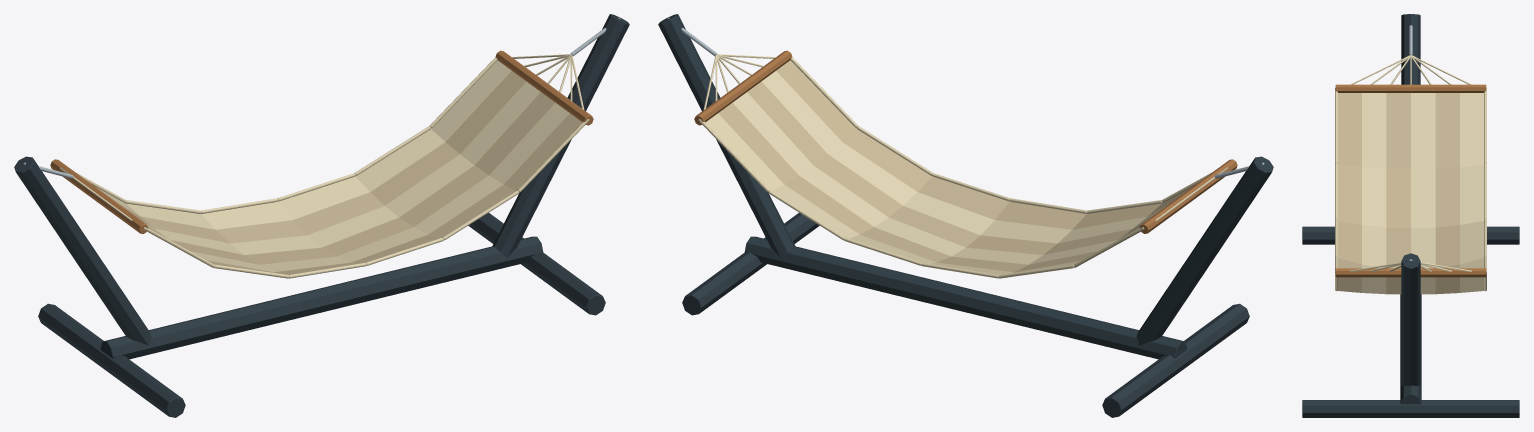
Rendered from b11_freestanding_hammock_and_stand.glb.
The picture shows the model from 3 angles, left to right: view 1: azimuth 30°, elevation 25°; view 2: azimuth 150°, elevation 25°; view 3: azimuth 270°, elevation 25°; orthographic projection. The views are drawn at different scales.
Visible parts, largest first — view 1: b11_freestanding_hammock_and_stand; view 2: b11_freestanding_hammock_and_stand; view 3: b11_freestanding_hammock_and_stand.
Part boxes in pixels (left/top/right/bottom): b11_freestanding_hammock_and_stand: left=14, top=14, right=629, bottom=417; b11_freestanding_hammock_and_stand: left=658, top=14, right=1273, bottom=417; b11_freestanding_hammock_and_stand: left=1302, top=14, right=1519, bottom=417.
Bounding box in the file's own units: 3.41 × 1.24 × 1.24.
